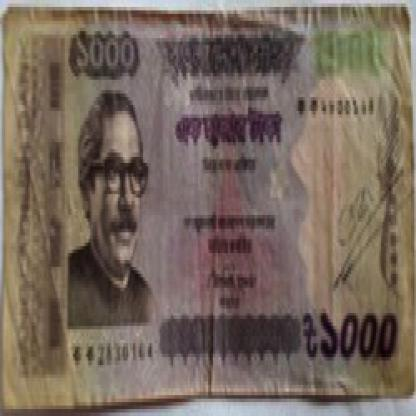One Thousand taka: (296, 305, 403, 364), (70, 27, 141, 80)
